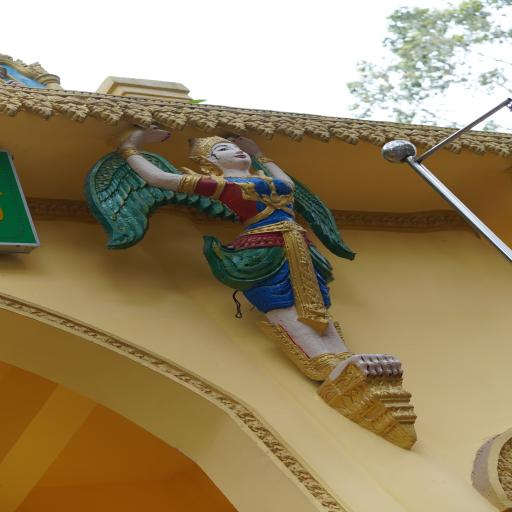than: (84, 93, 400, 414)
